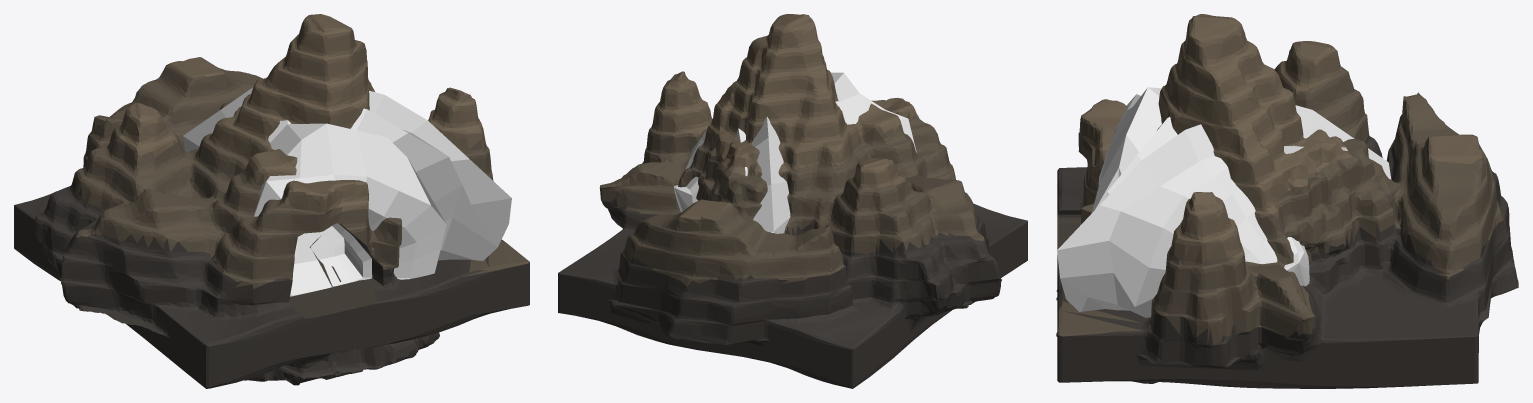
Rendered from SM_WaterfallCave_r2a358.glb.
3 views of the same model, side by side, from view 1: azimuth 30°, elevation 25°; view 2: azimuth 150°, elevation 25°; view 3: azimuth 270°, elevation 25° (orthographic). The views are drawn at different scales.
Parts seen in each view (by area): view 1: SM_WaterfallCave, COL_WaterfallCave; view 2: SM_WaterfallCave, COL_WaterfallCave; view 3: SM_WaterfallCave, COL_WaterfallCave.
Boxes of the visible parts, x1,y1,x2,y2 form: SM_WaterfallCave: (14,14,529,388); COL_WaterfallCave: (183,87,511,296); SM_WaterfallCave: (558,14,1027,388); COL_WaterfallCave: (674,72,916,233); SM_WaterfallCave: (1056,14,1518,388); COL_WaterfallCave: (1057,87,1391,317).
Size of the model in its own units: 16.95 by 11.74 by 15.03.
